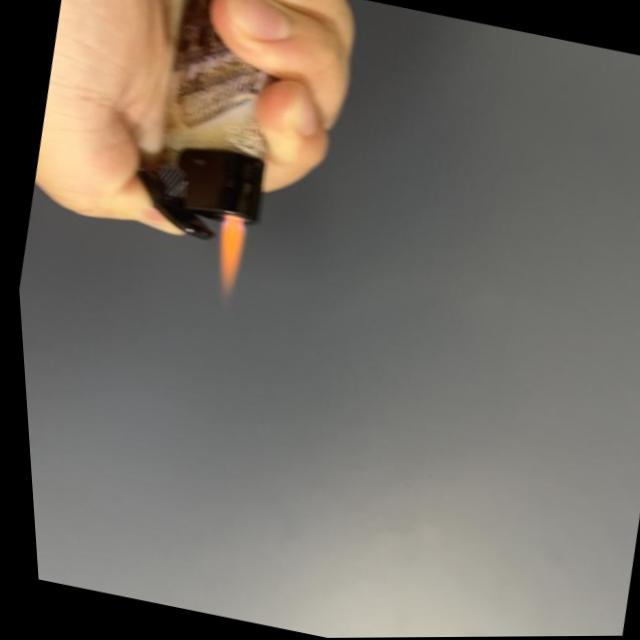Fire: (197, 213, 255, 297)
